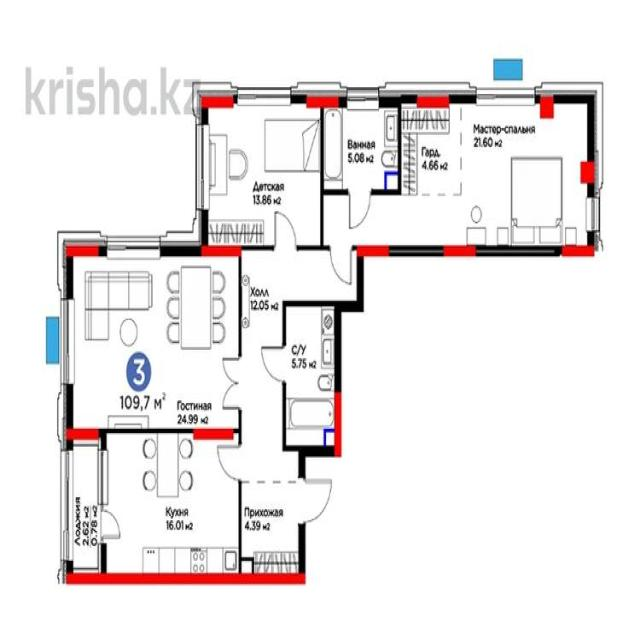balcony: (64, 436, 102, 574)
bathroom: (284, 304, 338, 448), (324, 102, 395, 189)
hallway: (242, 254, 280, 573), (324, 193, 461, 243)
kitchen: (106, 434, 238, 580)
living_room: (65, 250, 238, 428), (464, 101, 590, 245), (204, 95, 321, 246)
other: (402, 102, 458, 194)
